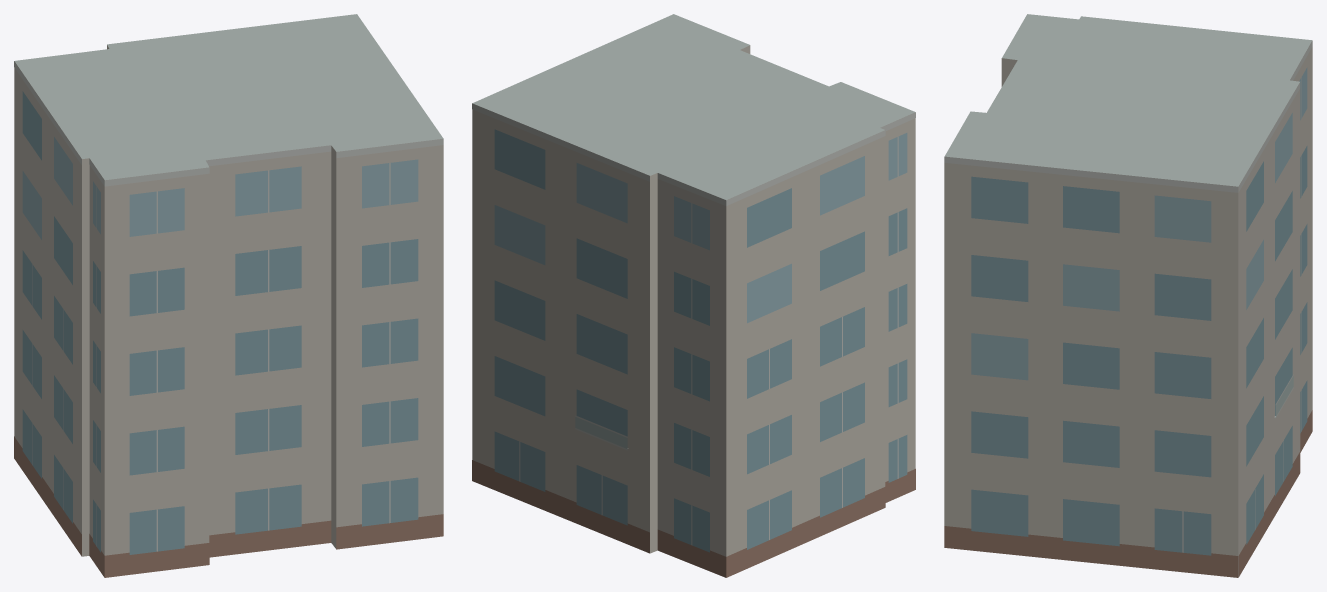
File: survey-upis-32916377.glb
3 views of the same model, side by side, from view 1: azimuth 30°, elevation 25°; view 2: azimuth 150°, elevation 25°; view 3: azimuth 270°, elevation 25° (orthographic). The views are drawn at different scales.
Visible parts, largest first — view 1: survey-upis-32916377.tmp; view 2: survey-upis-32916377.tmp; view 3: survey-upis-32916377.tmp.
Boxes of the visible parts, x1=… form: survey-upis-32916377.tmp: x1=14, y1=14, x2=443, y2=577; survey-upis-32916377.tmp: x1=472, y1=14, x2=915, y2=577; survey-upis-32916377.tmp: x1=944, y1=14, x2=1312, y2=577.
Bounding box in the file's own units: 14.54 × 15.35 × 13.1.
